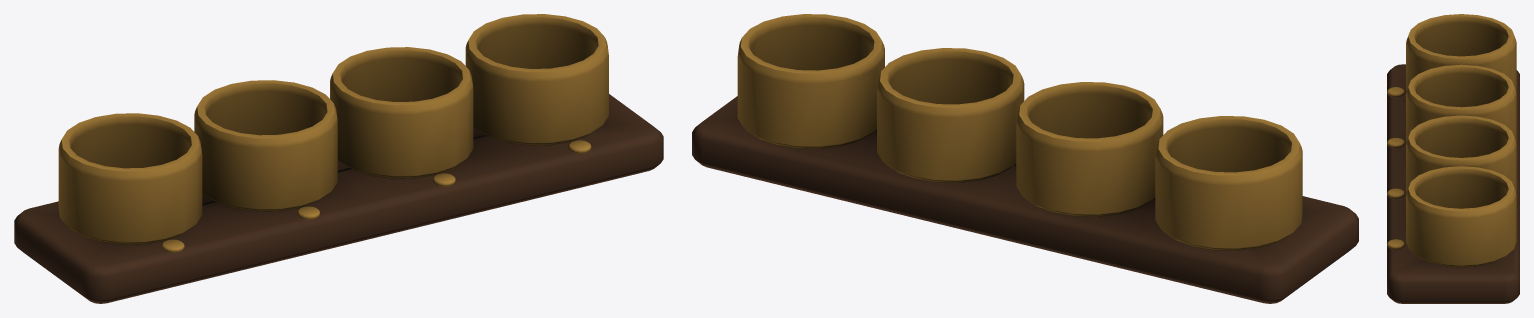
File: fastener_caddy.glb
3 renders of one model, left to right at view 1: azimuth 30°, elevation 25°; view 2: azimuth 150°, elevation 25°; view 3: azimuth 270°, elevation 25°, orthographic. The views are drawn at different scales.
Parts seen in each view (by area): view 1: Caddy_Bins, Caddy_Body; view 2: Caddy_Bins, Caddy_Body; view 3: Caddy_Bins, Caddy_Body.
Part boxes in pixels (box(x1,y1,x2,y2)): Caddy_Bins: box(58, 14, 608, 252); Caddy_Body: box(14, 94, 663, 303); Caddy_Bins: box(737, 14, 1302, 250); Caddy_Body: box(692, 96, 1358, 303); Caddy_Bins: box(1387, 14, 1516, 267); Caddy_Body: box(1387, 64, 1519, 303).
Size of the model in its own units: 0.162 by 0.03 by 0.042.
